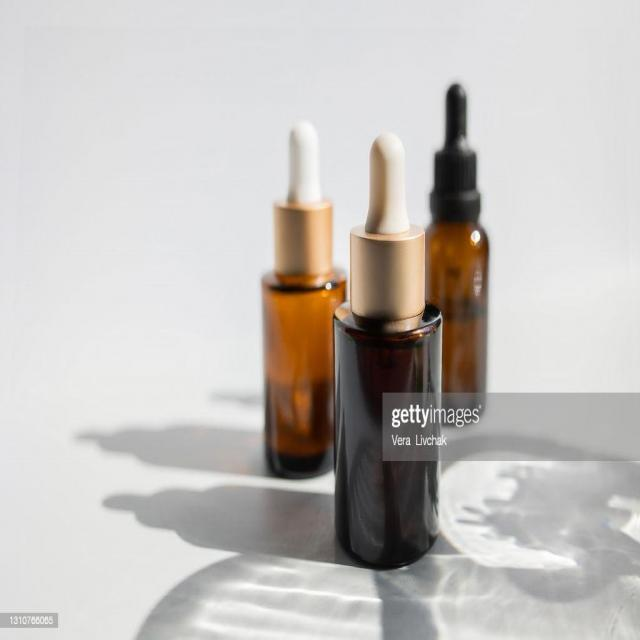non-organic waste: (329, 127, 443, 577)
